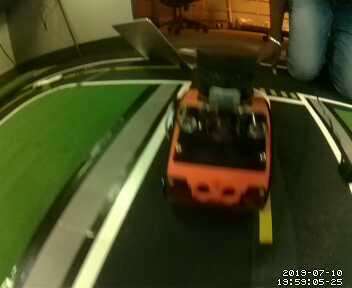pheeno: (164, 46, 274, 208)
